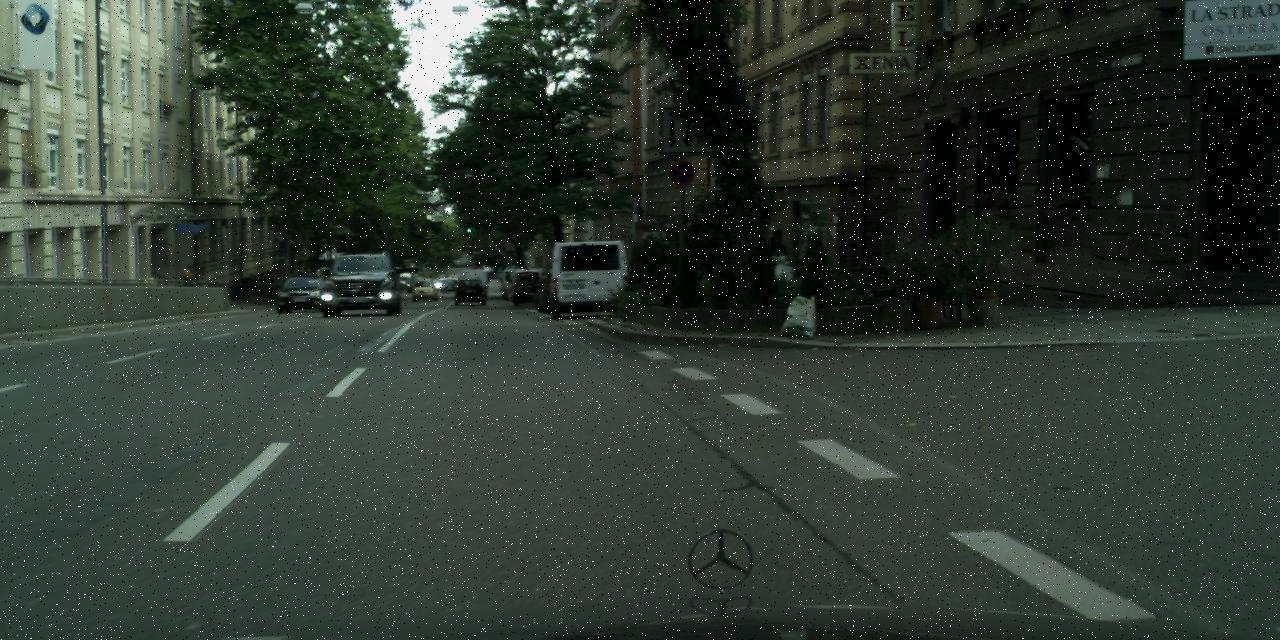ped: (760, 227, 786, 291), (185, 264, 197, 296), (246, 272, 256, 297)
